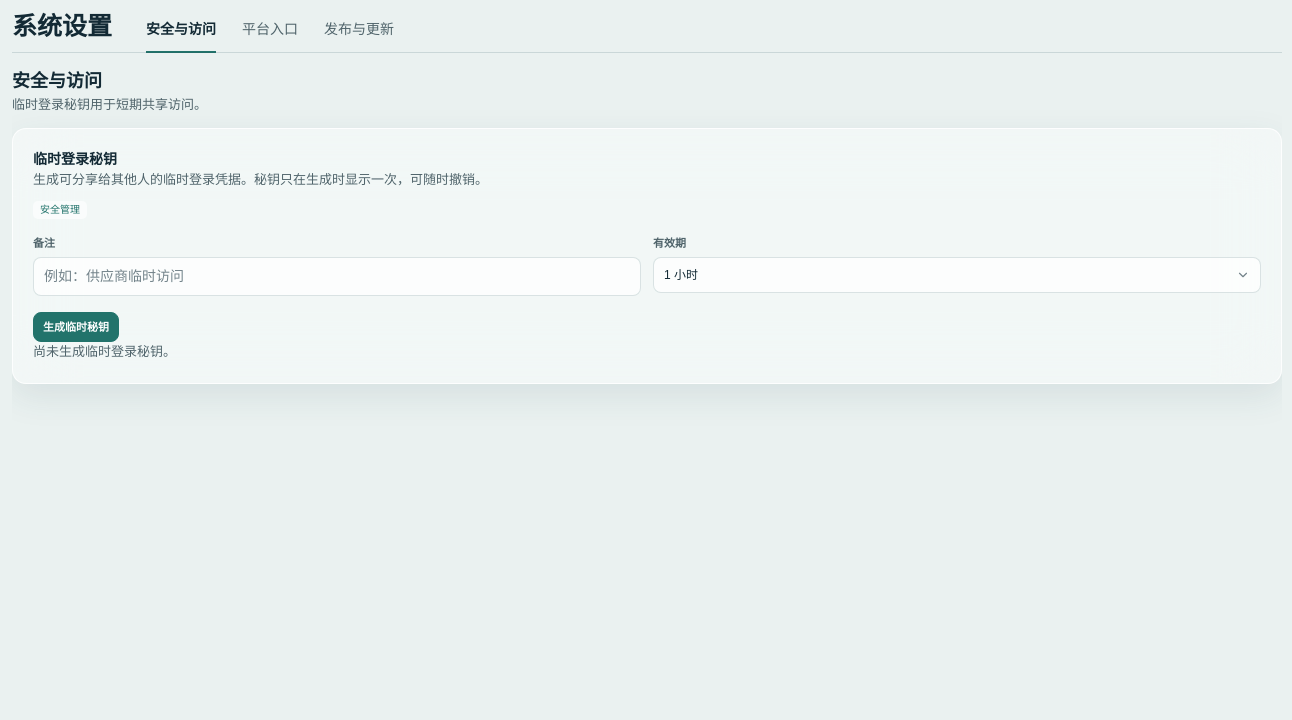
SystemSettings view › shows a local error when the active settings read fails
Click the button with test id "system-settings-tab-release". click: (359, 36)
box: 324,19 -> 394,52
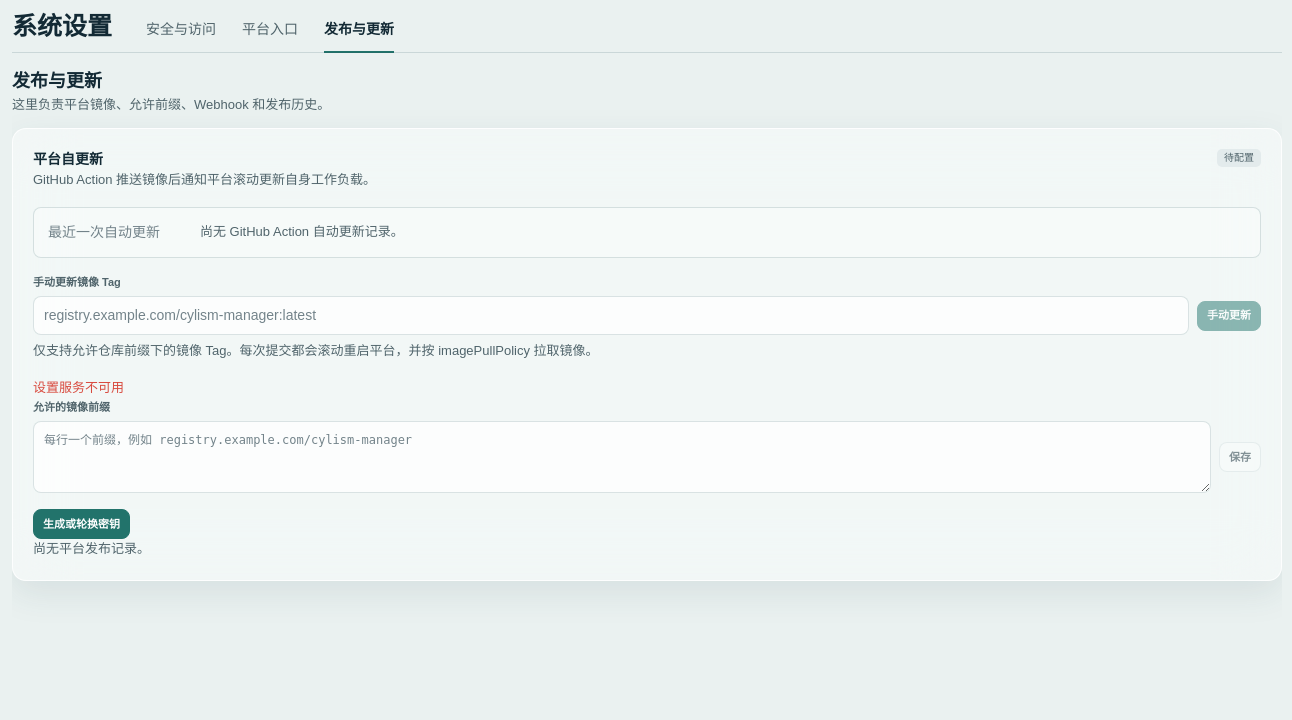
Expected: the text "设置服务不可用" is shown, 33,380 -> 124,395
